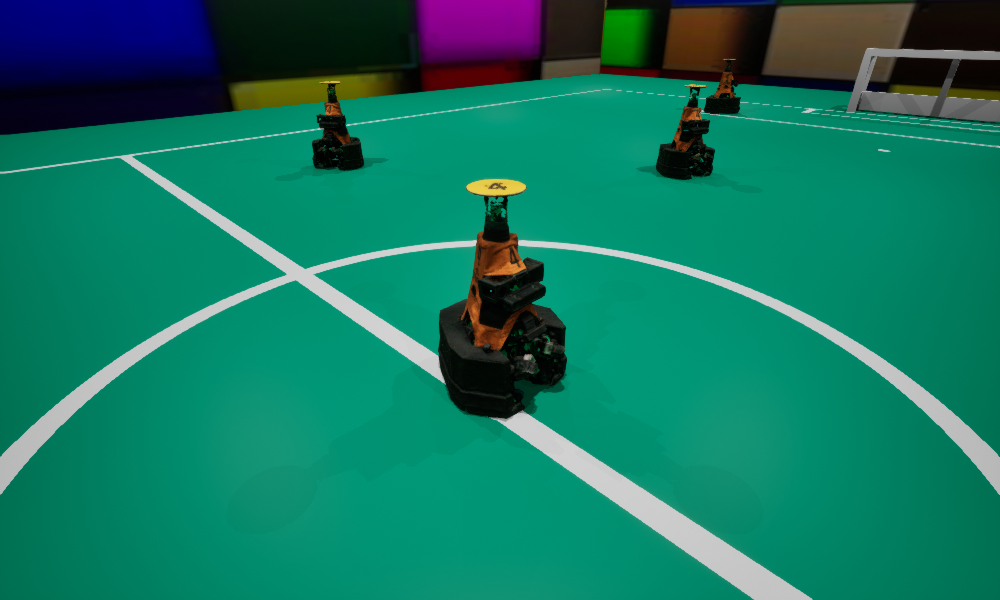0 orange robot TechUnited: (438, 179, 566, 418), (656, 84, 714, 179), (312, 81, 363, 169), (704, 59, 740, 113)
